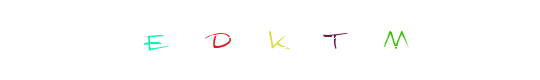9: (113, 0, 193, 80)
D: (225, 0, 305, 80)
E: (224, 0, 304, 80)
K: (229, 0, 309, 80)
M: (355, 0, 435, 80)
T: (279, 0, 359, 80)
